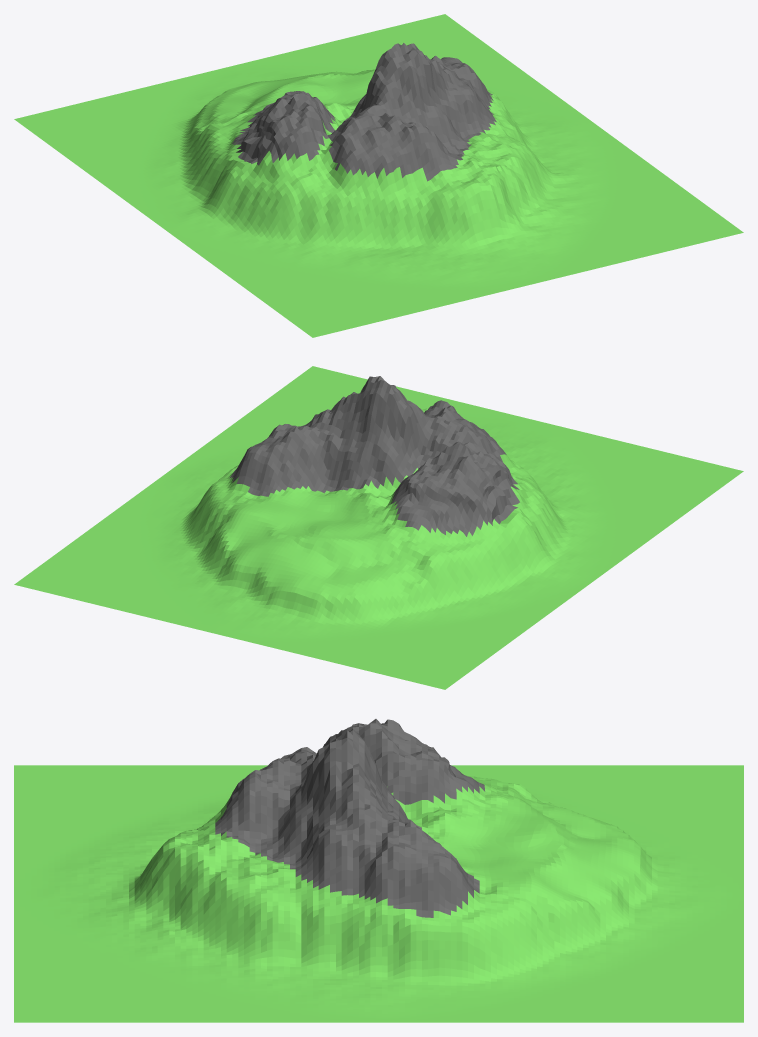
Rendered from island.glb.
3 views of the same model, one above another, from view 1: azimuth 30°, elevation 25°; view 2: azimuth 150°, elevation 25°; view 3: azimuth 270°, elevation 25° (orthographic). The views are drawn at different scales.
Parts seen in each view (by area): view 1: Landscape.003; view 2: Landscape.003; view 3: Landscape.003.
Part boxes in pixels (x1,y1,x2,y2): Landscape.003: (14, 14, 743, 337); Landscape.003: (14, 366, 743, 689); Landscape.003: (14, 719, 743, 1022).
Size of the model in its own units: 500 by 155 by 600.
